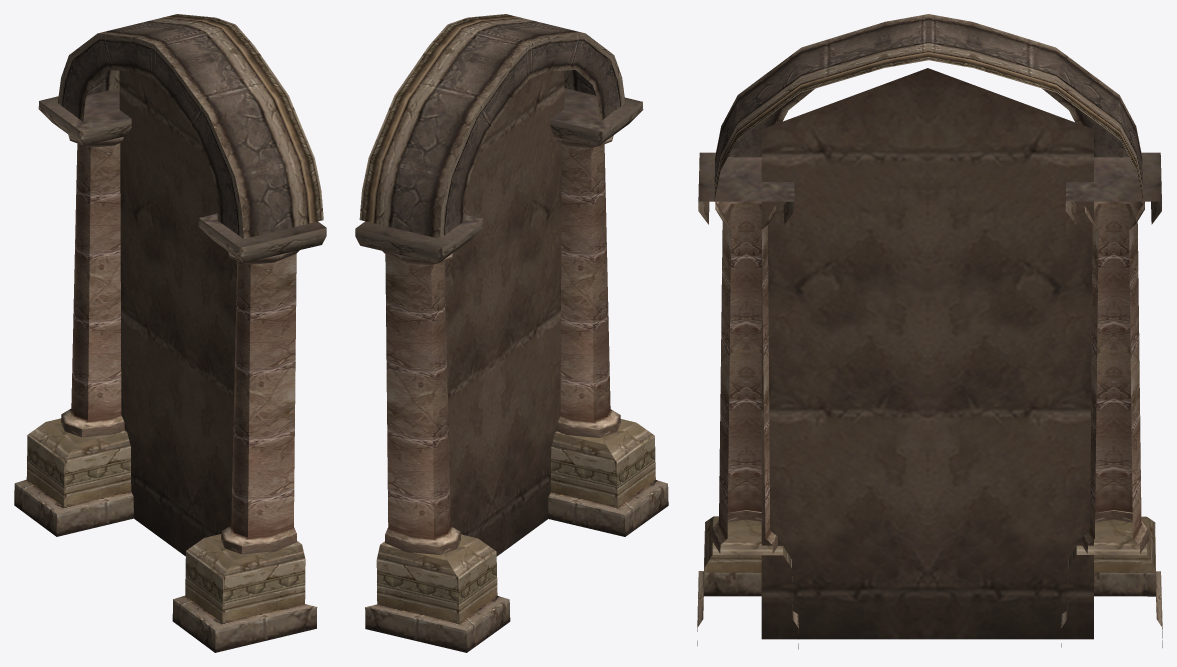
File: blsd_4qiang_01.FBX
3 renders of one model, left to right at view 1: azimuth 30°, elevation 25°; view 2: azimuth 150°, elevation 25°; view 3: azimuth 270°, elevation 25°, orthographic. The views are drawn at different scales.
Visible parts, largest first — view 1: blsd_4qiang_01; view 2: blsd_4qiang_01; view 3: blsd_4qiang_01.
Part boxes in pixels (x1=…): blsd_4qiang_01: x1=14, y1=14, x2=326, y2=652; blsd_4qiang_01: x1=355, y1=14, x2=668, y2=652; blsd_4qiang_01: x1=697, y1=14, x2=1162, y2=649.
Size of the model in its own units: 127 by 528 by 369.
